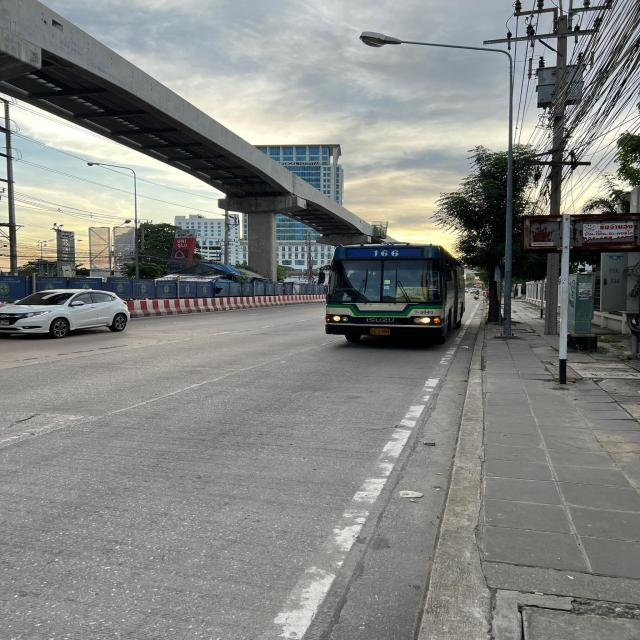BMTA-bus: (322, 239, 469, 346)
Bus-Line-Number: (372, 248, 402, 258)
Destination-Sign-Normal-Expressway: (397, 287, 429, 302)
